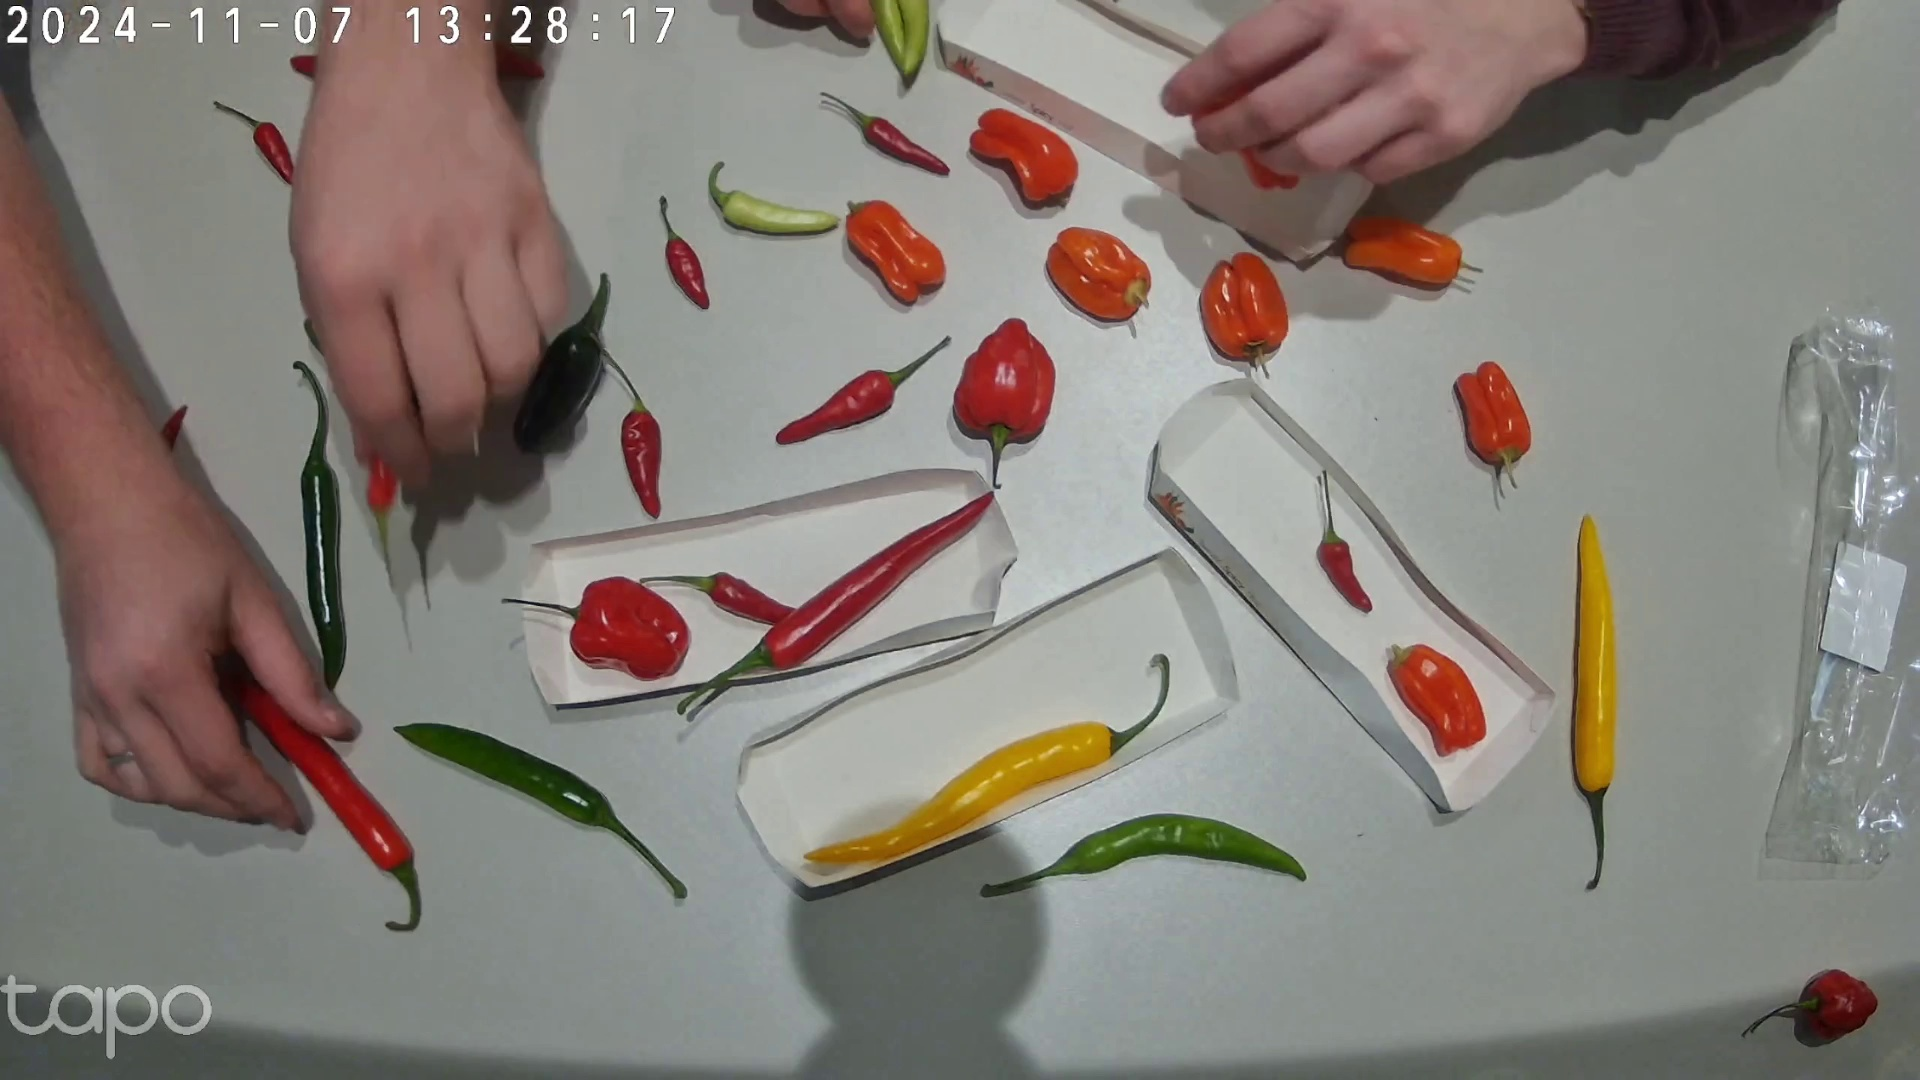Habanero_Pepper_Red: (493, 579, 684, 679), (953, 316, 1055, 489), (1751, 969, 1878, 1042)
Jalapeno_Green: (512, 273, 608, 460)
Leon_Orange: (1185, 96, 1298, 204), (1199, 253, 1287, 378), (968, 108, 1079, 206), (1390, 642, 1486, 753), (847, 200, 947, 306), (1044, 227, 1151, 319), (1344, 215, 1482, 285), (1456, 361, 1531, 489), (1051, 0, 1133, 95)
Rawit_Green: (708, 162, 839, 235)
Rawit_Red: (775, 332, 953, 446), (822, 90, 949, 175), (600, 351, 662, 520), (636, 556, 820, 609), (1319, 469, 1374, 612), (214, 99, 297, 186), (661, 195, 711, 309)
Spanish_Pepper_Green: (393, 724, 690, 901), (978, 810, 1305, 897), (293, 361, 347, 690)
Spanish_Pepper_Red: (676, 492, 994, 711), (240, 682, 422, 931)
Spanish_Pepper_Yellow: (804, 651, 1167, 857), (1573, 516, 1621, 893)
